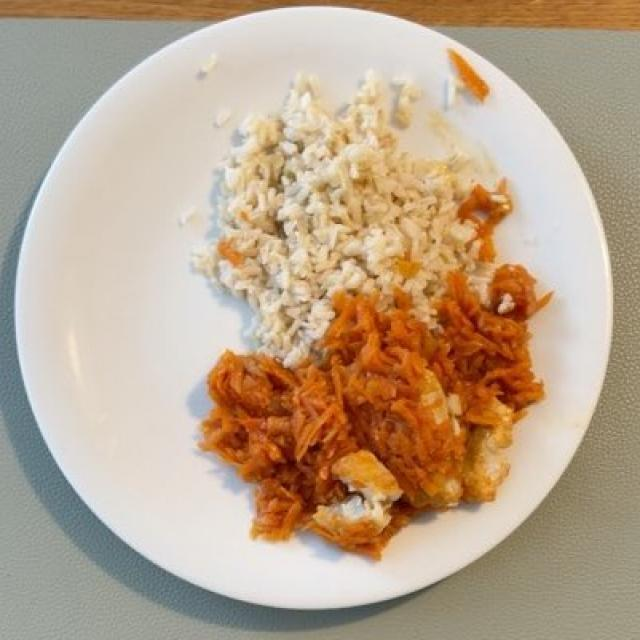fish: (318, 382, 514, 555)
rice: (223, 65, 471, 360)
vegetables: (215, 262, 540, 551)
